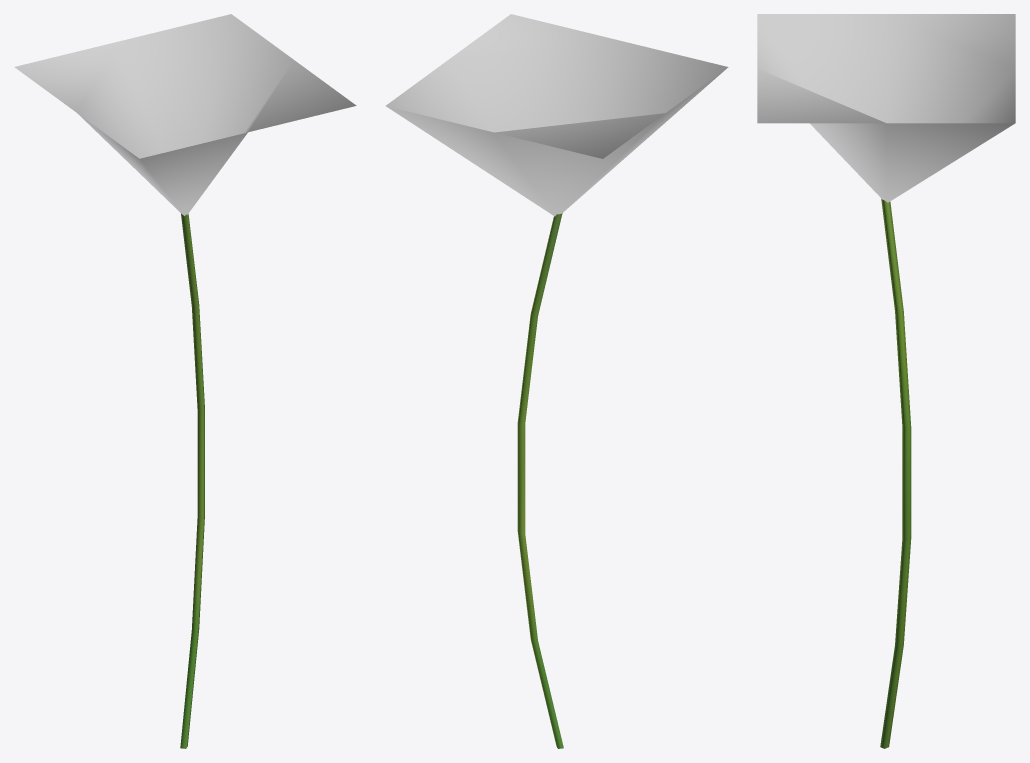
The model's file is SM_flower_15.fbx.
The picture shows the model from 3 angles, left to right: view 1: azimuth 30°, elevation 25°; view 2: azimuth 150°, elevation 25°; view 3: azimuth 270°, elevation 25°; orthographic projection. The views are drawn at different scales.
Parts seen in each view (by area): view 1: SM_flower_15; view 2: SM_flower_15; view 3: SM_flower_15.
Part boxes in pixels (x1,y1,x2,y2): SM_flower_15: (14, 14, 356, 748); SM_flower_15: (386, 14, 728, 748); SM_flower_15: (757, 14, 1015, 748).
Bounding box in the file's own units: 22.63 × 65.67 × 22.63.
